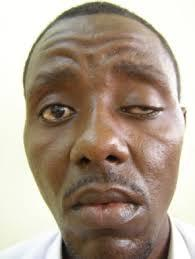strokeEyeSevere: (32, 73, 170, 132)
strokeMouthWeak: (65, 184, 149, 230)
